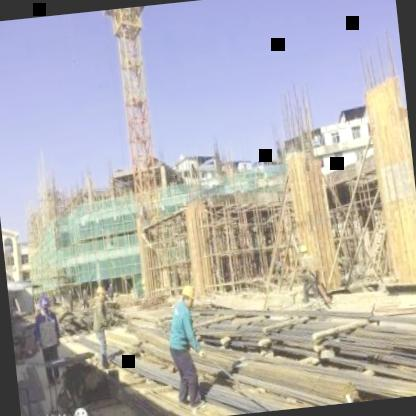helmet: (178, 283, 198, 310), (35, 293, 52, 314), (94, 280, 108, 300), (298, 240, 308, 259)
